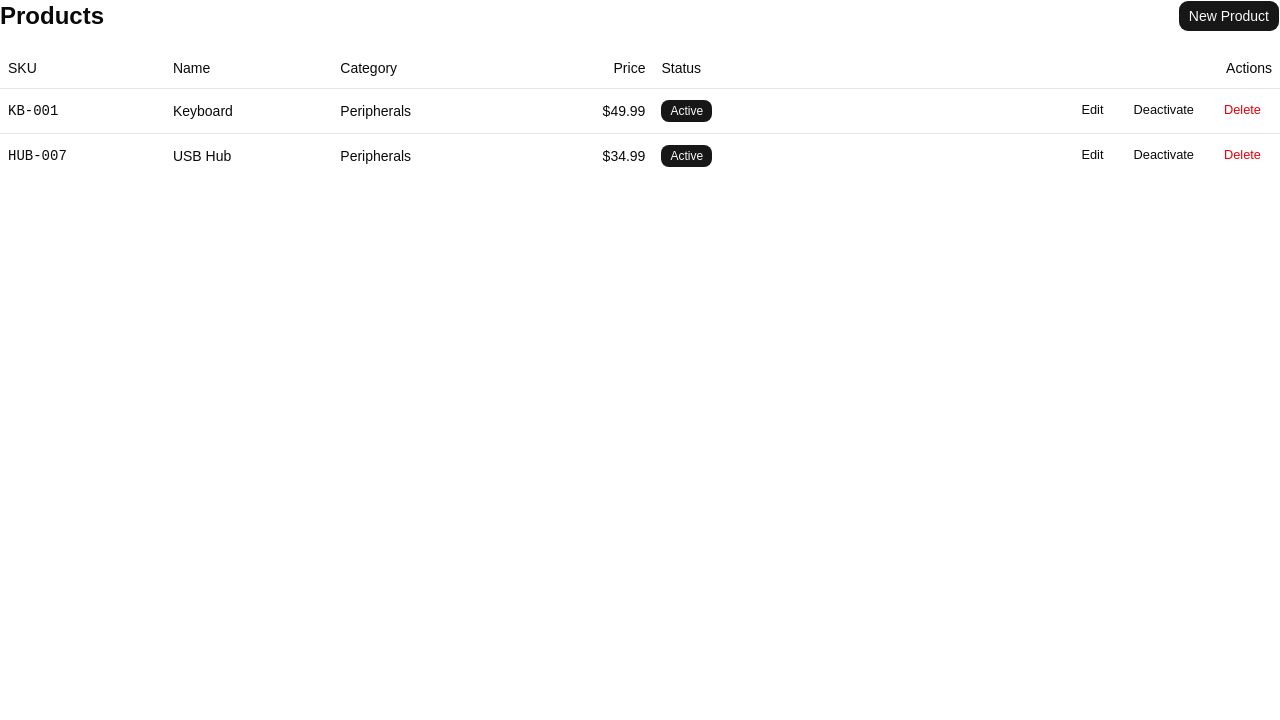
Scenario: ProductsPage › opens create dialog when clicking New Product
expect the text "Keyboard" is shown: met, box [165, 88, 332, 133]
Click the button "New Product" at (1229,16), box [1178, 0, 1279, 32]
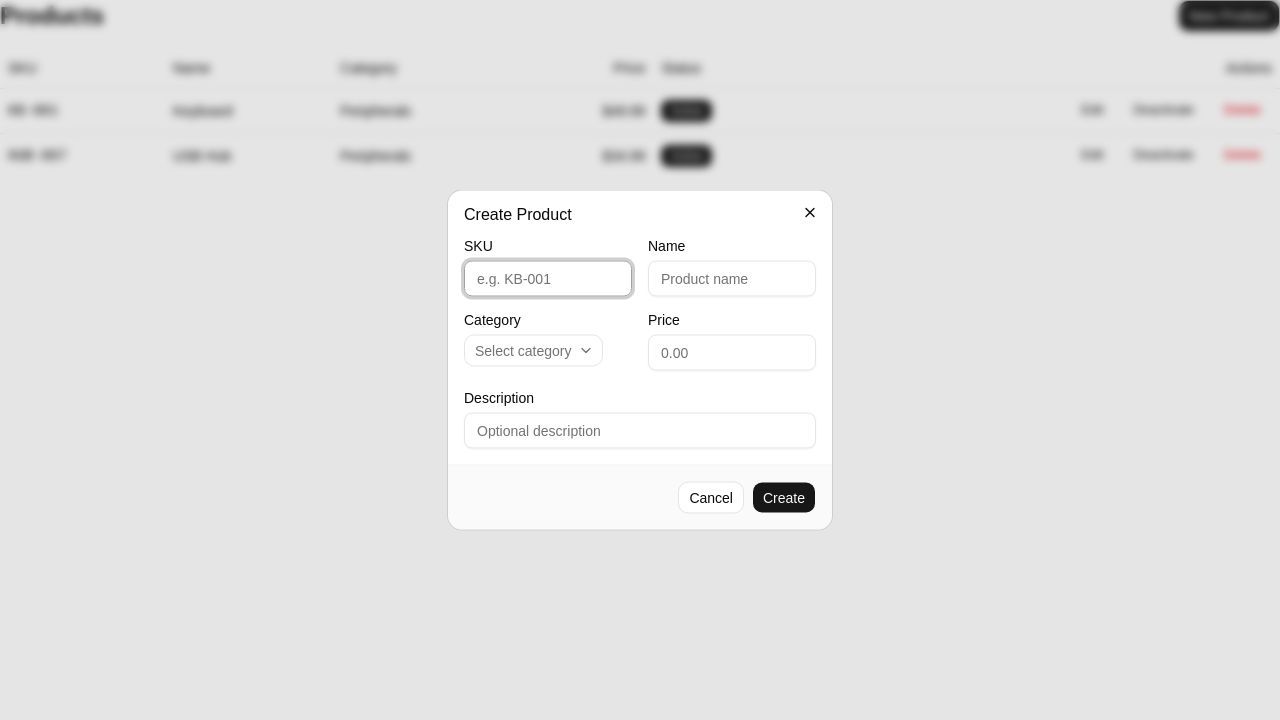
expect the heading "Create Product" is shown: met, box [464, 206, 572, 222]
